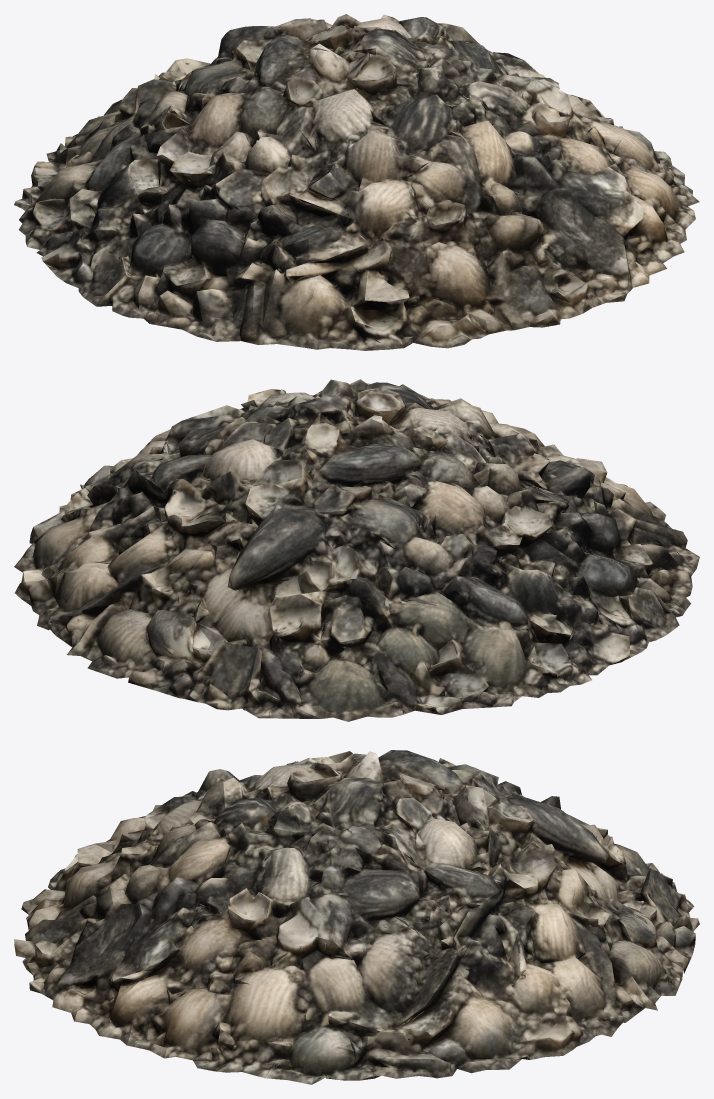
3 views of the same model, one above another, from view 1: azimuth 30°, elevation 25°; view 2: azimuth 150°, elevation 25°; view 3: azimuth 270°, elevation 25° (orthographic).
Parts seen in each view (by area): view 1: shell-midden; view 2: shell-midden; view 3: shell-midden.
Boxes of the visible parts, <box> form: shell-midden: <box>14,14,699,350</box>; shell-midden: <box>14,379,699,721</box>; shell-midden: <box>14,750,699,1084</box>.
Bounding box in the file's own units: 1.5 × 0.4294 × 1.5.
1 material, 1 textured.
